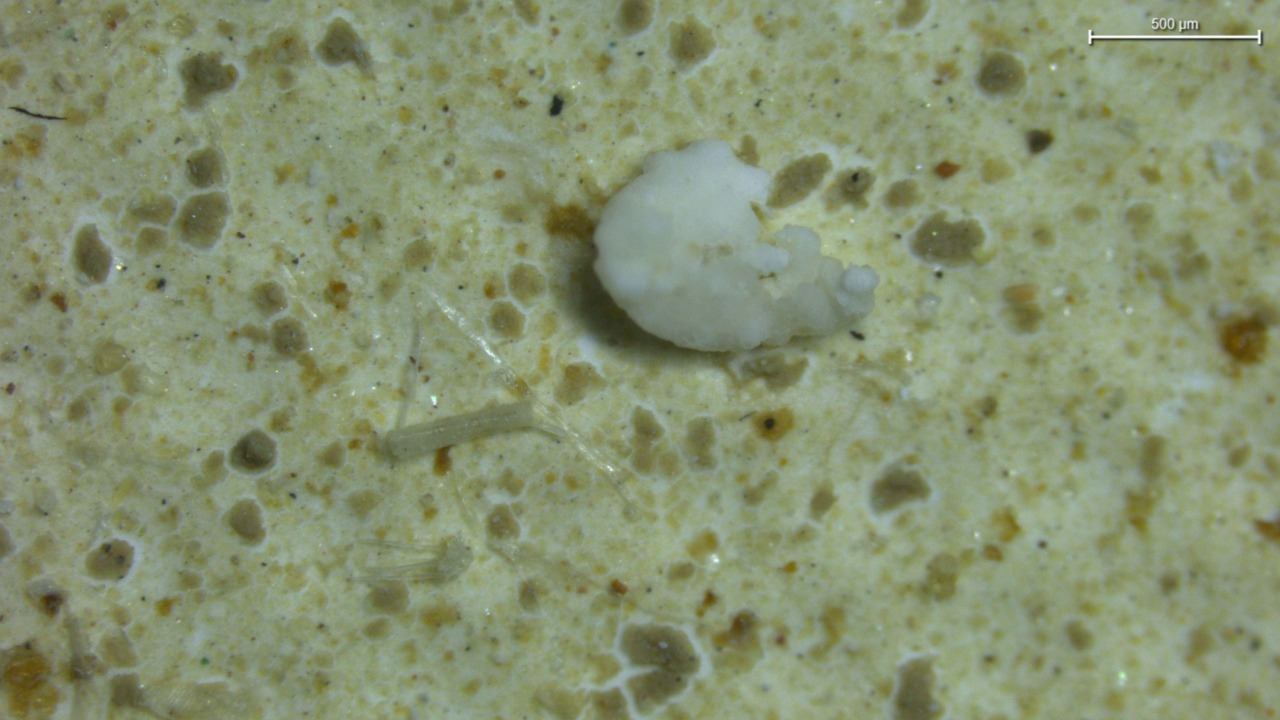microplastic_fragment: (594, 140, 878, 351)
